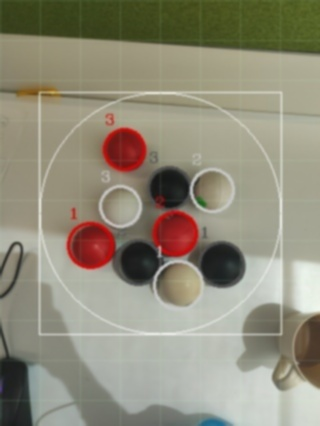Pelota blanca: (151, 260, 203, 310), (188, 166, 235, 214), (292, 310, 320, 389), (98, 182, 142, 230), (236, 334, 281, 373), (241, 302, 283, 336), (31, 401, 86, 425), (271, 355, 299, 392), (196, 414, 233, 425)
Pelota negra: (111, 238, 161, 286), (199, 238, 246, 288), (145, 164, 190, 211)
Pelota roja: (66, 220, 115, 270), (151, 209, 198, 256), (100, 126, 147, 171)
